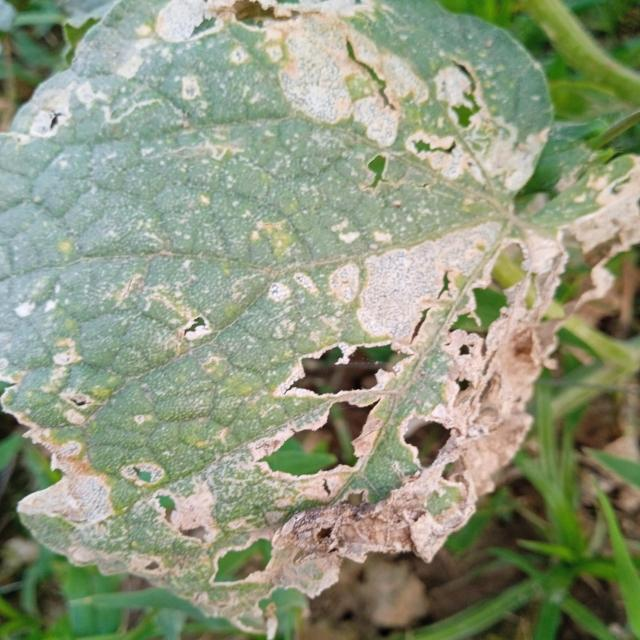cucumber_anthracnose: (26, 35, 626, 628)
